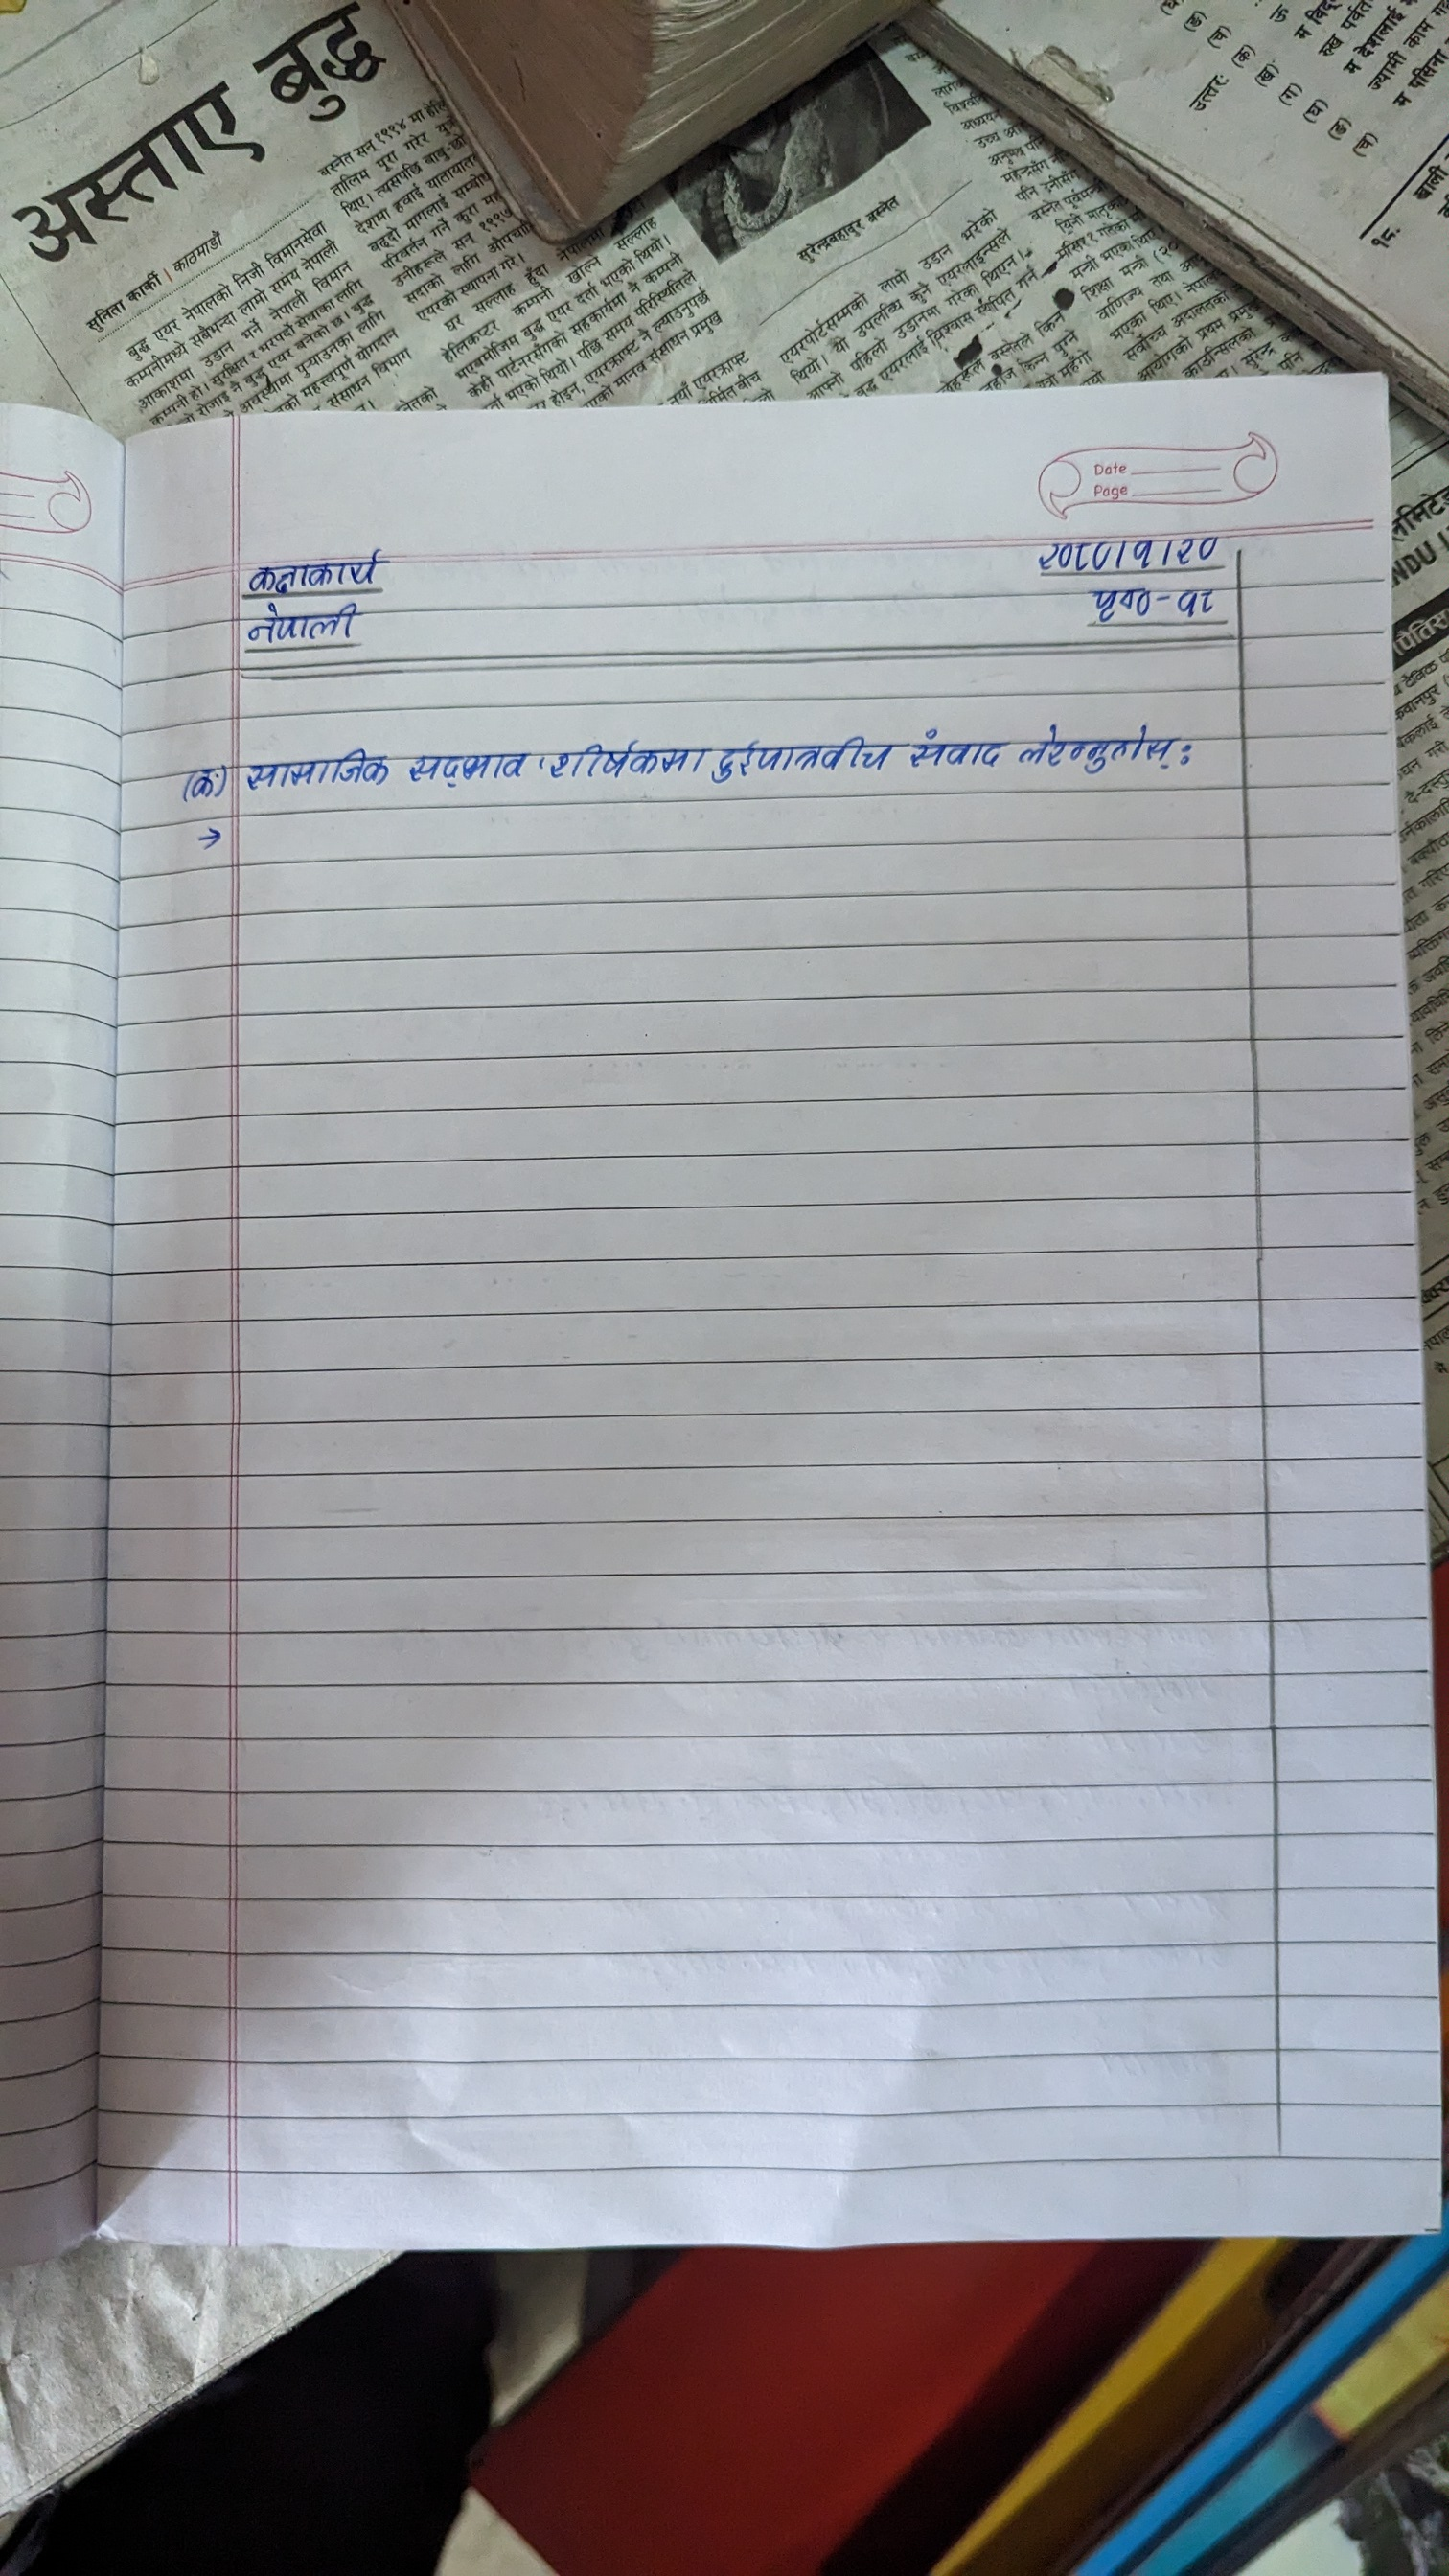text: (1019, 720, 1182, 777), (548, 734, 706, 793), (711, 736, 890, 778), (241, 745, 387, 793), (241, 552, 387, 600), (237, 602, 386, 648), (904, 725, 1012, 780), (409, 745, 533, 793), (1076, 582, 1161, 632), (1028, 525, 1111, 575), (1125, 524, 1168, 571), (180, 761, 221, 809), (1175, 580, 1215, 628), (1177, 520, 1217, 568)
